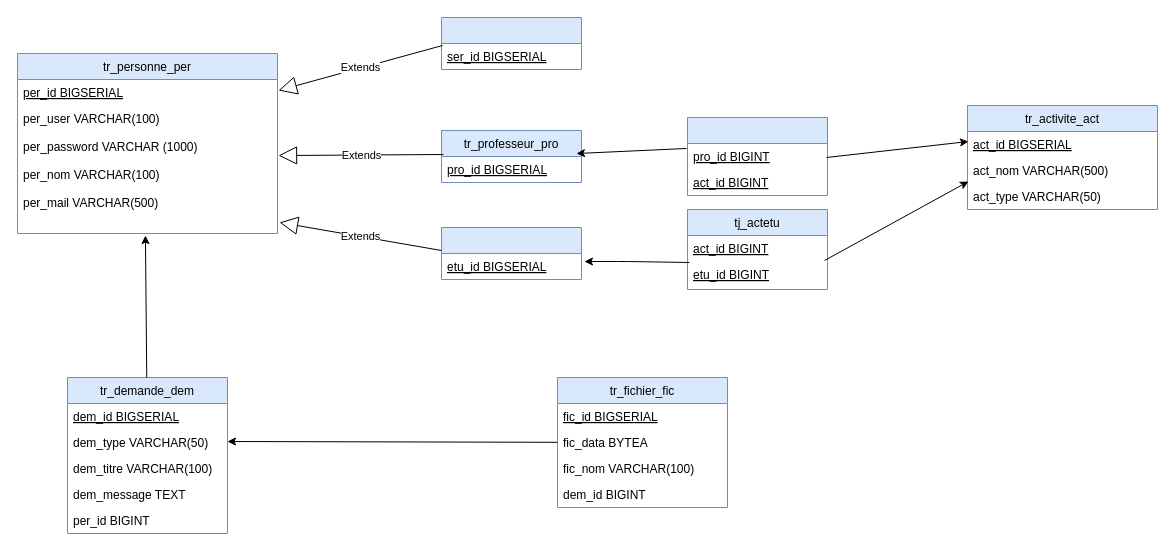
This 1175x554 diagram has some shape labels left out. The shapes that lost their labels are listed below. From the top down, each one's box as (x1, y1, x2, y2) in pixels, then its label:
(440, 16, 582, 70): tr_service_ser
(686, 116, 828, 196): tj_actpro
(440, 226, 582, 280): tr_etudiant_etu
